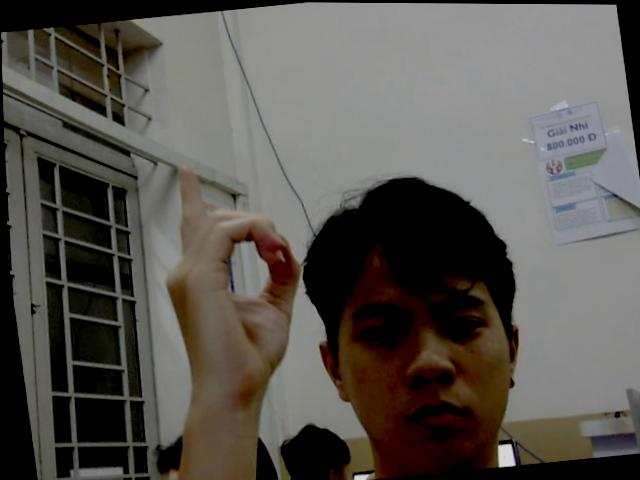D: (147, 151, 315, 394)
